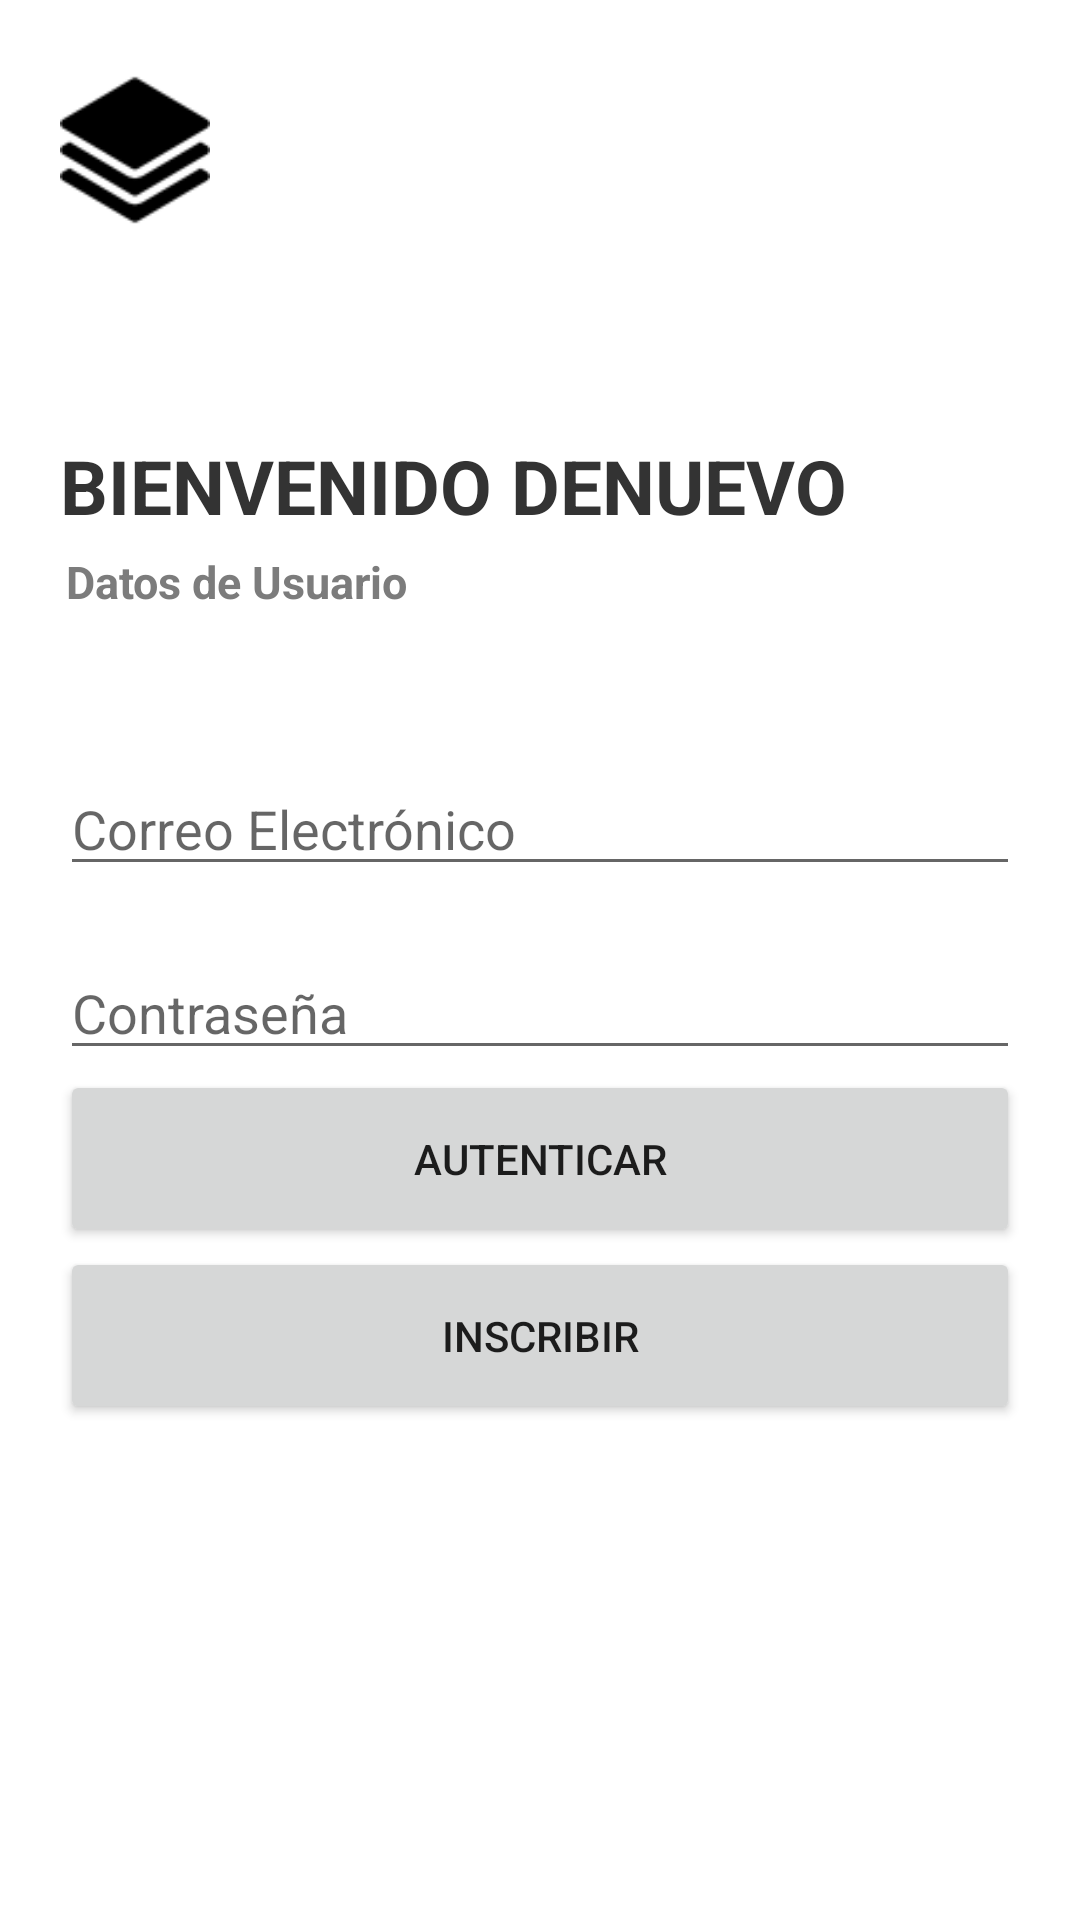

Screen size 1080*1920. Icon name, then its center in pixels as (x=x, y=y):
albumes: (x=135, y=150)
